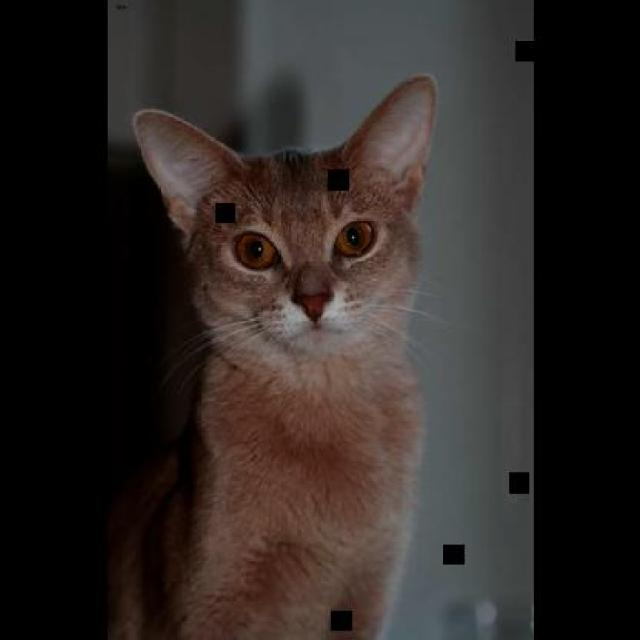unauthorized: (103, 72, 442, 638)
